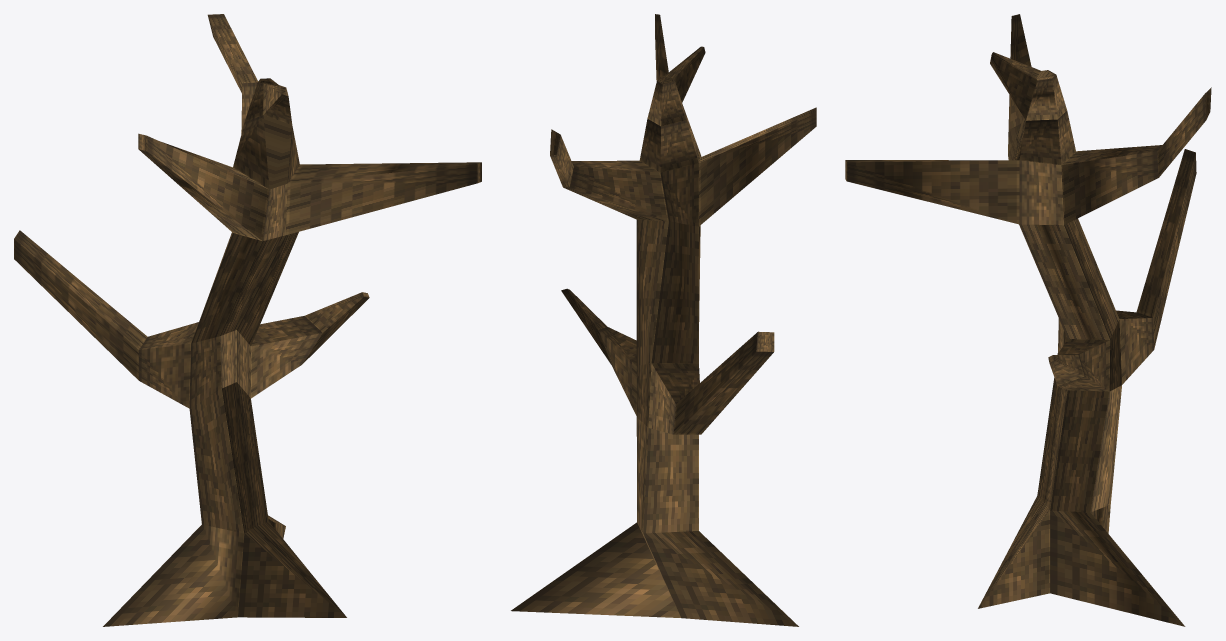
The model's file is Tree No Leaves.fbx.
The picture shows the model from 3 angles, left to right: view 1: azimuth 30°, elevation 25°; view 2: azimuth 150°, elevation 25°; view 3: azimuth 270°, elevation 25°; orthographic projection. The views are drawn at different scales.
Parts seen in each view (by area): view 1: TreeTrunk; view 2: TreeTrunk; view 3: TreeTrunk.
Part boxes in pixels (<box>): TreeTrunk: <box>14,14,481,626</box>; TreeTrunk: <box>511,14,816,626</box>; TreeTrunk: <box>845,14,1211,626</box>.
Bounding box in the file's own units: 17.19 × 30.21 × 18.78.
1 material, 1 textured.
